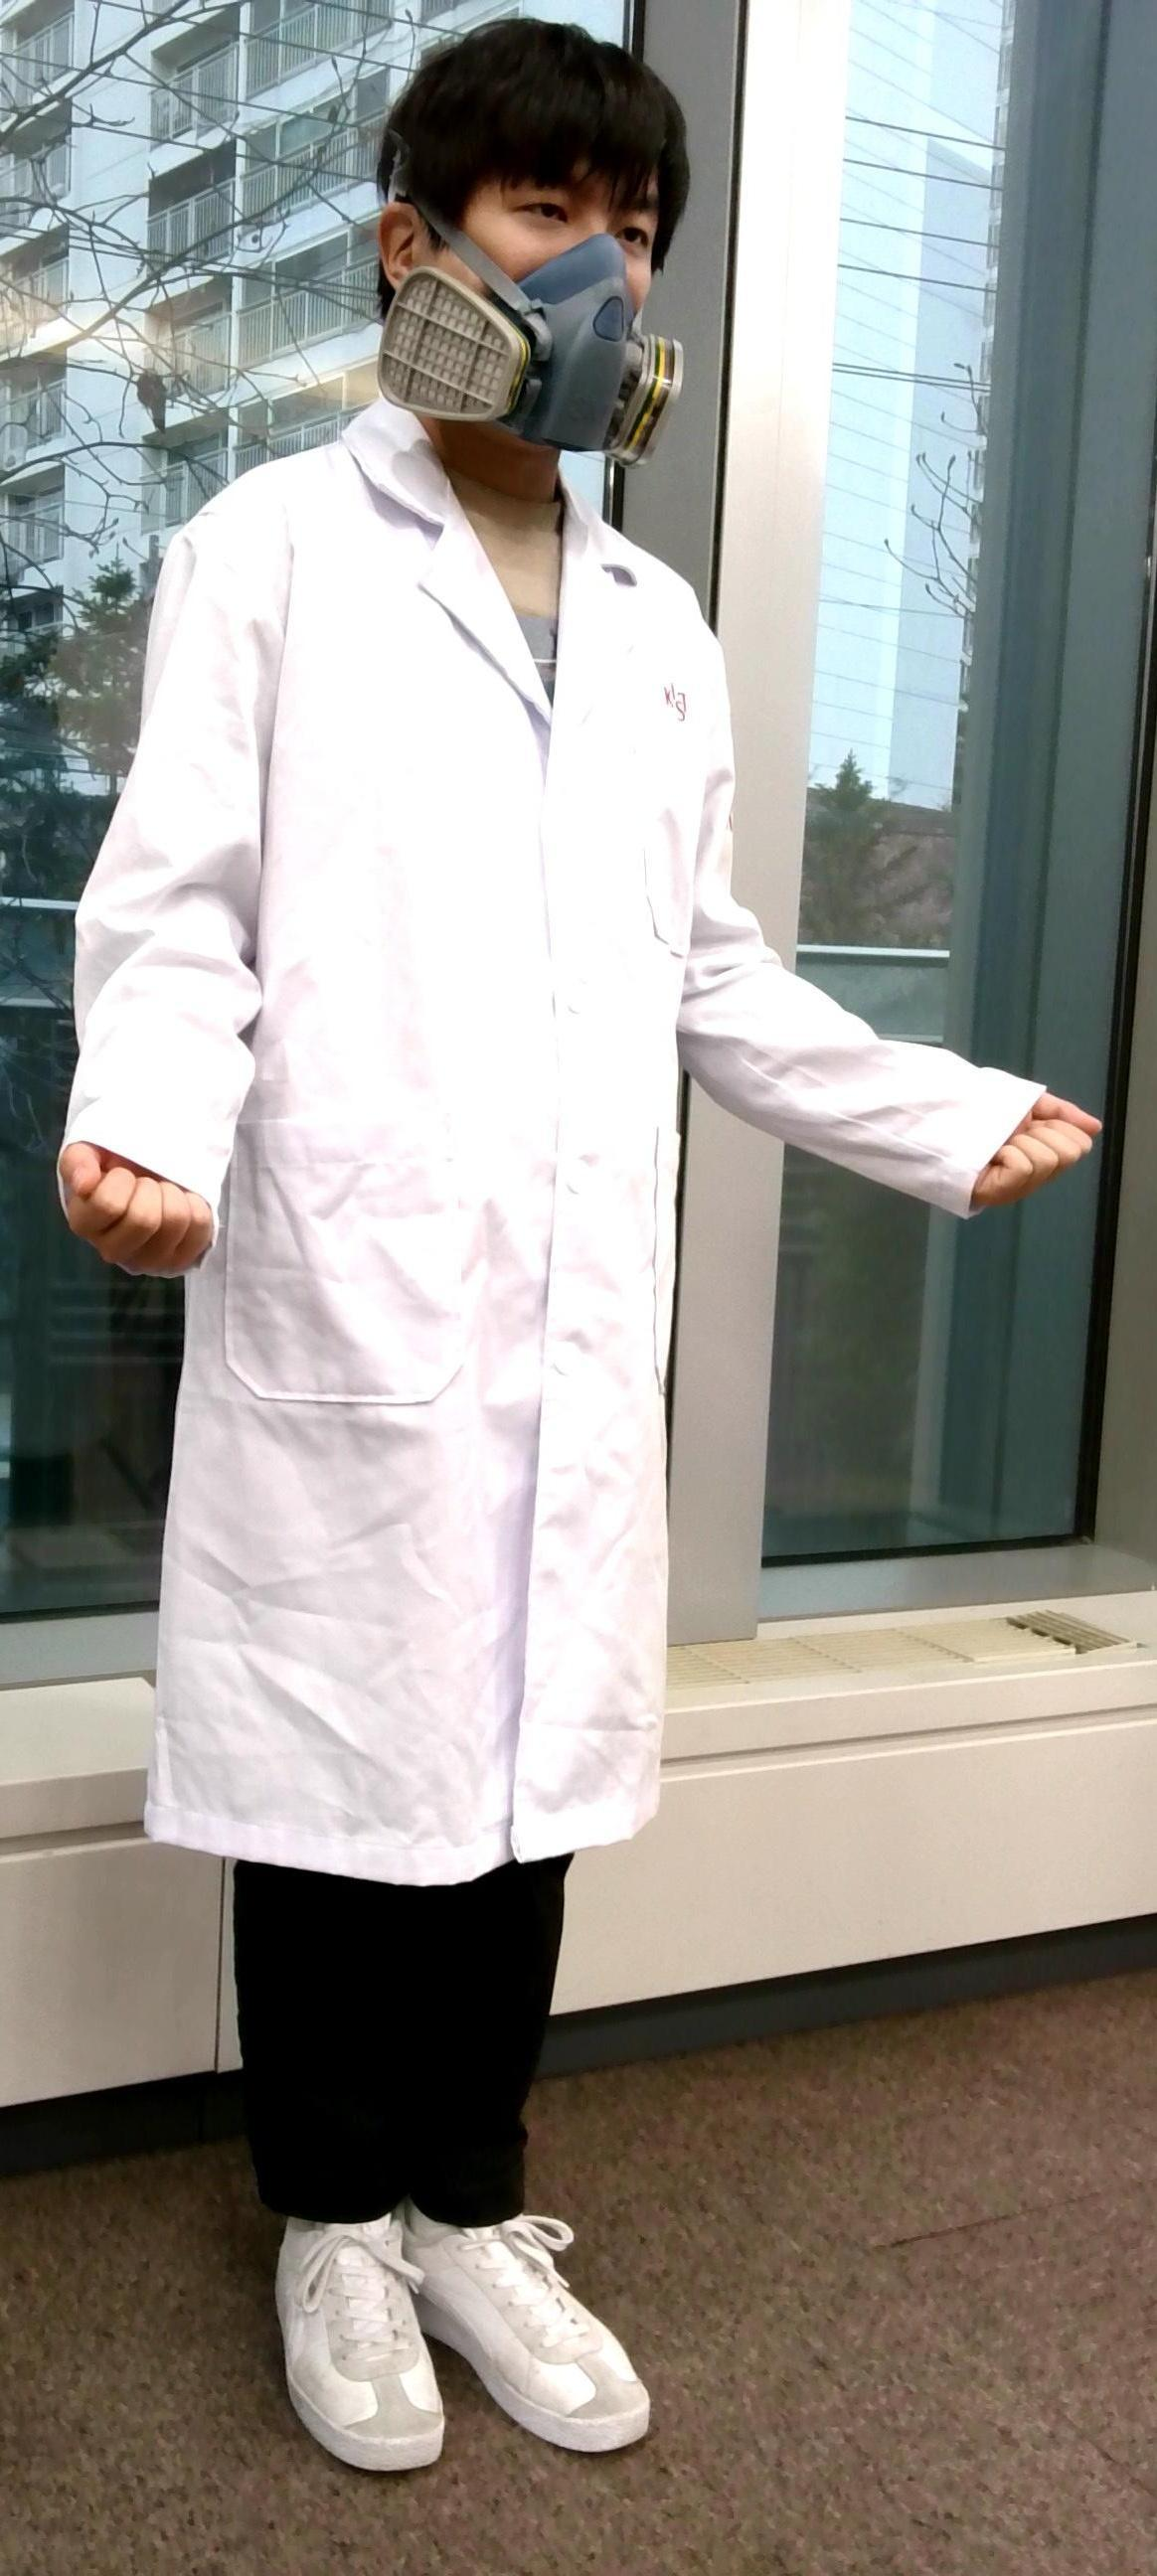lab_coat: (215, 478, 707, 1840)
